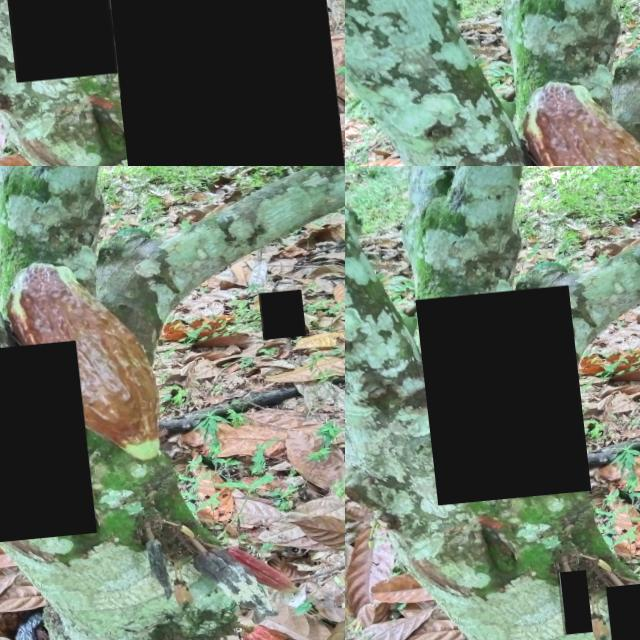Fitoftora: (94, 0, 341, 166), (412, 294, 583, 510), (547, 577, 580, 640)
Monilia: (595, 591, 640, 640)
Sana: (0, 347, 86, 548), (0, 0, 149, 86), (253, 301, 300, 350)
